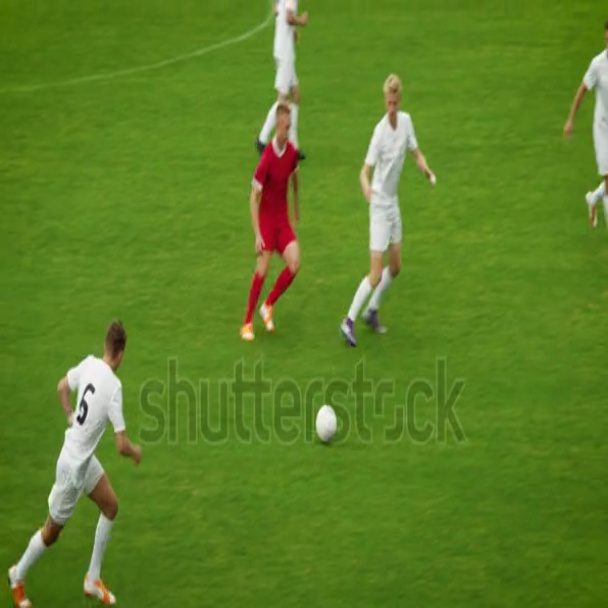ball: (310, 400, 341, 448)
